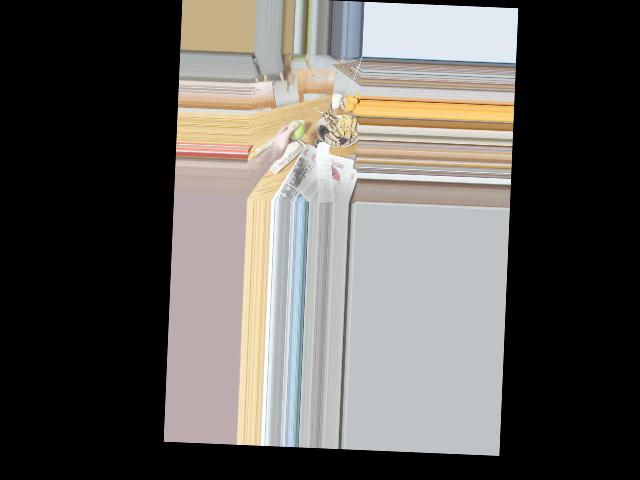apple: (284, 119, 304, 142)
